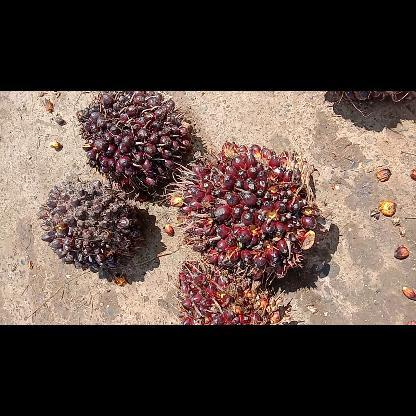Kurang masak: (160, 141, 332, 282), (76, 91, 194, 201), (38, 178, 142, 272), (171, 256, 292, 324)
